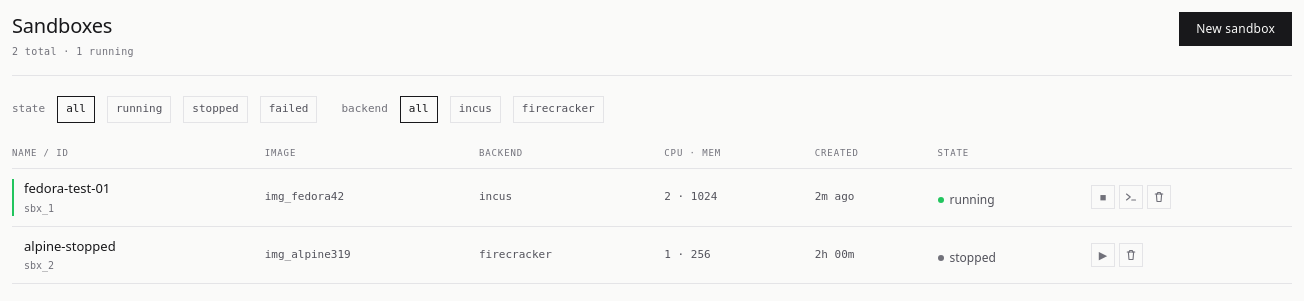
Sandboxes list › filters by backend
This screenshot has width=1304, height=301.
Expected: the link "fedora-test-01" is shown, [24,179,110,197]
Click the button "firecracker" at (558, 109), box [513,96,604,122]
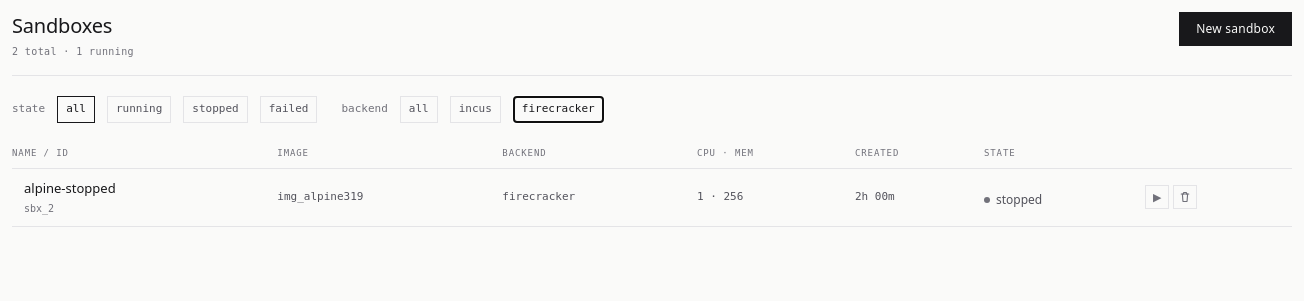
Expected: the link "alpine-stopped" is shown, [24,179,116,197]
Now the link "fedora-test-01" is gone
